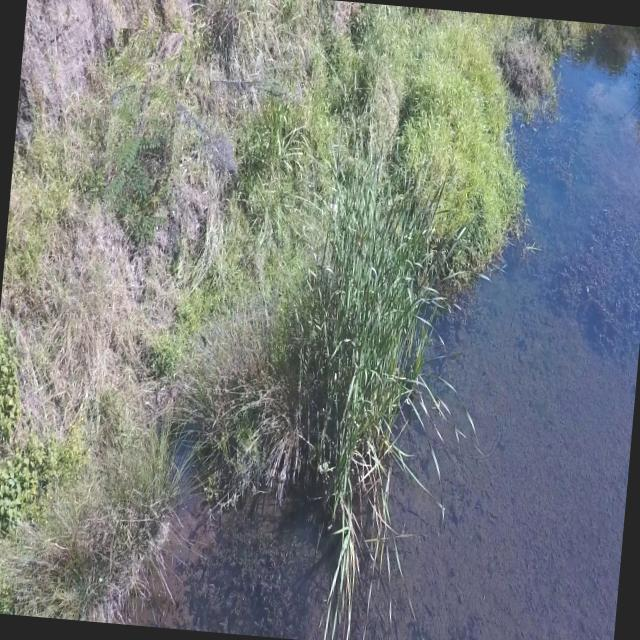Mysore-Thorn-Weed: (100, 27, 182, 217)
